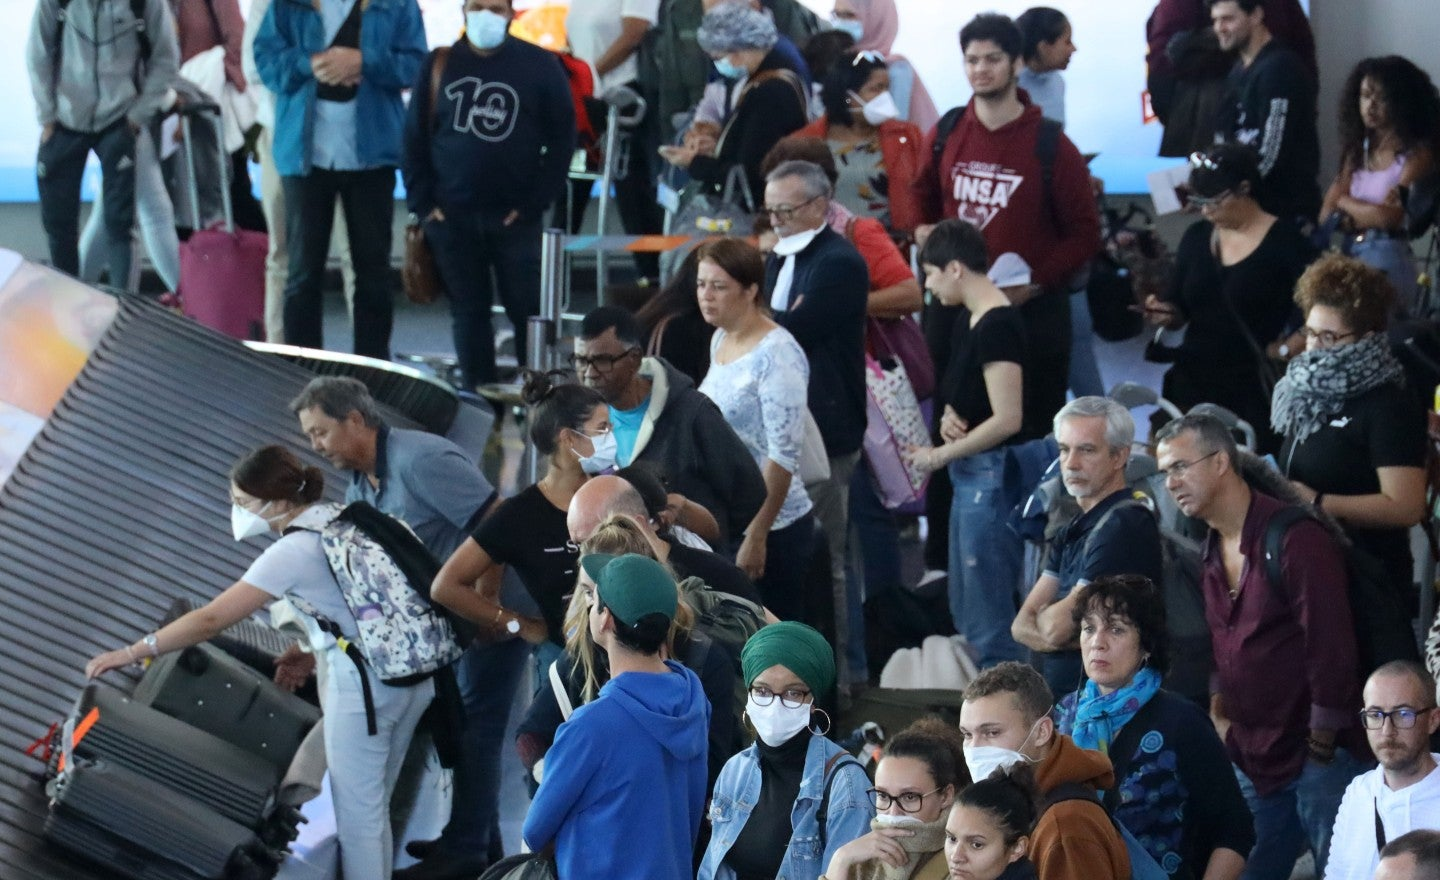with_incorrect_mask: (767, 179, 828, 255)
with_mask: (959, 694, 1053, 778), (540, 392, 618, 473), (745, 667, 812, 743), (223, 469, 284, 540), (702, 16, 766, 78), (855, 66, 898, 126), (462, 1, 512, 45)
without_mask: (590, 562, 666, 656), (300, 386, 377, 469), (878, 756, 941, 852), (1364, 678, 1432, 765), (943, 813, 1032, 879), (1158, 437, 1228, 517), (1076, 600, 1140, 682), (1057, 414, 1113, 499), (574, 326, 639, 396), (697, 257, 754, 330), (920, 242, 982, 305), (1307, 310, 1363, 382), (963, 32, 1017, 98), (1193, 177, 1252, 231), (1357, 73, 1400, 137), (1212, 2, 1262, 50)
